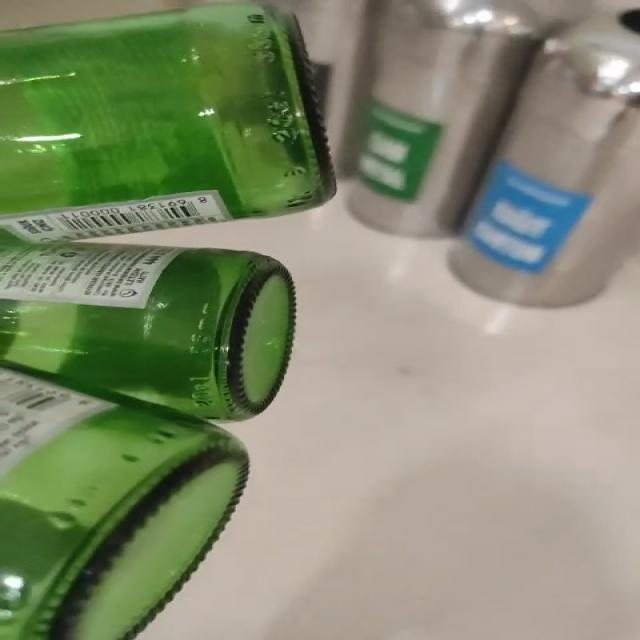Glass: (1, 3, 335, 640)
